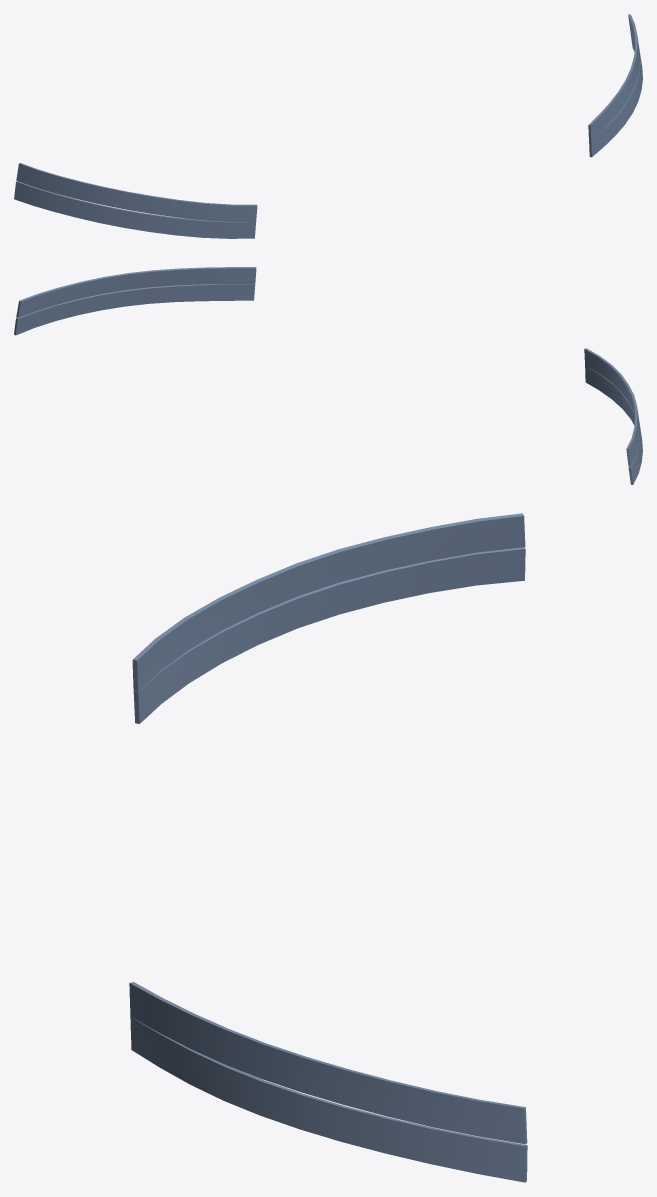
Rendered from SM_CarlosSA_Jacket_WaistPockets_StraightJetted.fbx.
3 renders of one model, top to bottom at view 1: azimuth 30°, elevation 25°; view 2: azimuth 150°, elevation 25°; view 3: azimuth 270°, elevation 25°, orthographic. The views are drawn at different scales.
Parts seen in each view (by area): view 1: SM_CarlosSA_Jacket_WaistPockets_StraightJetted; view 2: SM_CarlosSA_Jacket_WaistPockets_StraightJetted; view 3: SM_CarlosSA_Jacket_WaistPockets_StraightJetted.
Part boxes in pixels (x1,y1,x2,y2): SM_CarlosSA_Jacket_WaistPockets_StraightJetted: (14,14,642,238); SM_CarlosSA_Jacket_WaistPockets_StraightJetted: (14,267,642,484); SM_CarlosSA_Jacket_WaistPockets_StraightJetted: (129,513,527,1182).
Size of the model in its own units: 0.3373 by 0.0199 by 0.094.
